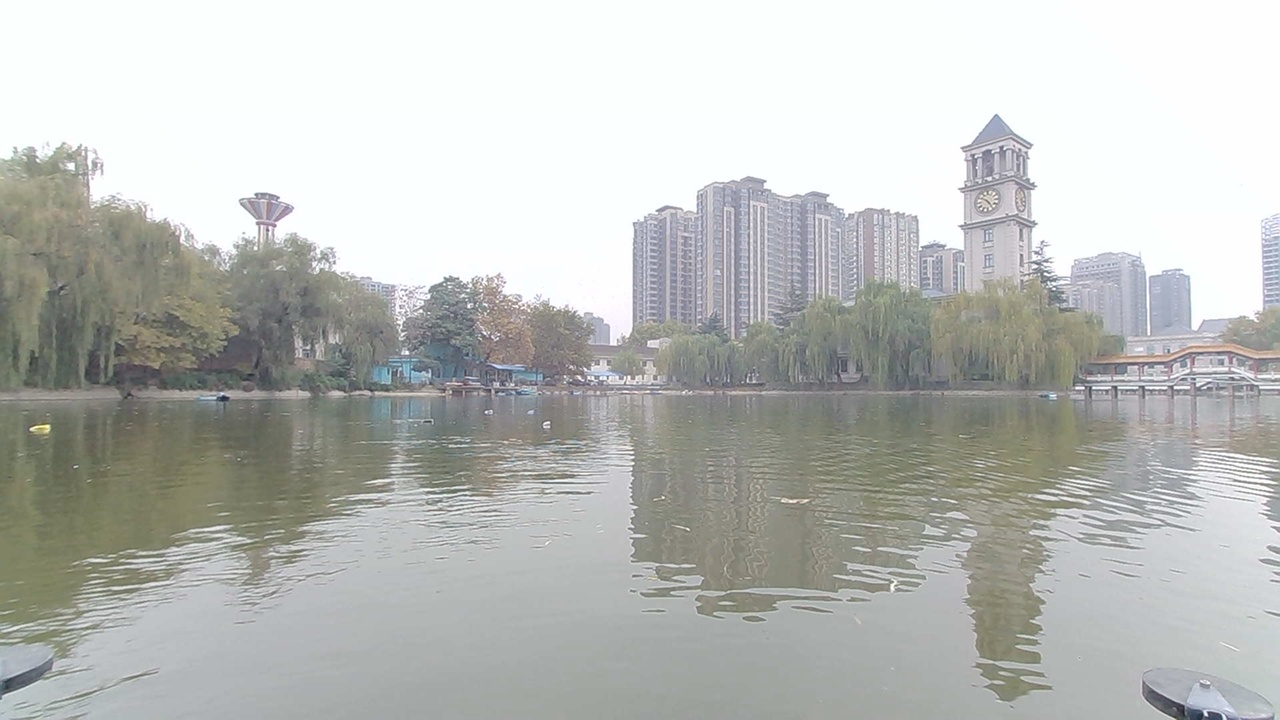bottle: (541, 418, 573, 441), (28, 415, 58, 439), (418, 412, 448, 434), (511, 406, 544, 423), (479, 404, 501, 423)
